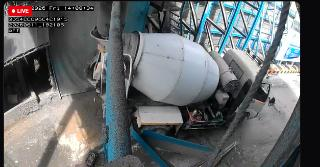cement_mixer_truck: (90, 30, 260, 135), (239, 78, 274, 122)
swing_chute: (97, 1, 125, 36)
